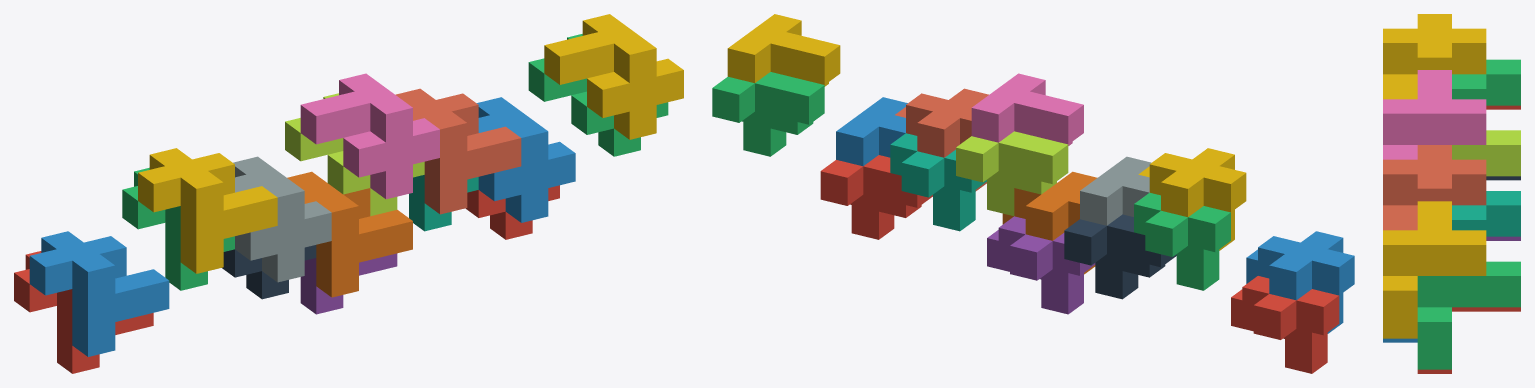
The model's file is tiling.obj.
The picture shows the model from 3 angles, left to right: view 1: azimuth 30°, elevation 25°; view 2: azimuth 150°, elevation 25°; view 3: azimuth 270°, elevation 25°; orthographic projection. The views are drawn at different scales.
Visible parts, largest first — view 1: copy_2_domain_8, copy_2_domain_4, copy_1_domain_2, copy_1_domain_4, copy_1_domain_8, copy_1_domain_6, copy_2_domain_6, copy_2_domain_2, copy_1_domain_1, copy_2_domain_7, copy_2_domain_3, copy_1_domain_3 (+4 smaller); view 2: copy_2_domain_7, copy_1_domain_1, copy_2_domain_3, copy_1_domain_3, copy_1_domain_2, copy_2_domain_8, copy_2_domain_4, copy_1_domain_4, copy_1_domain_5, copy_2_domain_5, copy_2_domain_1, copy_1_domain_7 (+4 smaller); view 3: copy_2_domain_8, copy_2_domain_4, copy_1_domain_8, copy_1_domain_4, copy_2_domain_7, copy_1_domain_3, copy_1_domain_7, copy_2_domain_3, copy_2_domain_5, copy_1_domain_1, copy_1_domain_5, copy_2_domain_1 (+1 smaller).
Boxes of the visible parts, x1,y1,x2,y2 form: copy_2_domain_8: (544, 14, 683, 139); copy_2_domain_4: (300, 73, 439, 199); copy_1_domain_2: (29, 231, 169, 356); copy_1_domain_4: (138, 148, 277, 273); copy_1_domain_8: (395, 88, 521, 214); copy_1_domain_6: (287, 171, 412, 297); copy_2_domain_6: (476, 97, 575, 222); copy_2_domain_2: (233, 156, 331, 282); copy_1_domain_1: (14, 251, 153, 373); copy_2_domain_7: (528, 34, 668, 156); copy_2_domain_3: (285, 93, 424, 216); copy_1_domain_3: (122, 167, 234, 290); copy_2_domain_7: (712, 72, 824, 156); copy_1_domain_1: (1231, 276, 1339, 373); copy_2_domain_3: (956, 131, 1068, 215); copy_1_domain_3: (1134, 192, 1230, 290); copy_1_domain_2: (1246, 231, 1354, 333); copy_2_domain_8: (727, 14, 840, 86); copy_2_domain_4: (971, 73, 1083, 145); copy_1_domain_4: (1138, 148, 1246, 250); copy_1_domain_5: (987, 216, 1095, 314); copy_2_domain_5: (820, 155, 932, 239); copy_2_domain_1: (1064, 214, 1176, 299); copy_1_domain_7: (890, 133, 986, 231); copy_2_domain_8: (1383, 201, 1486, 338); copy_2_domain_4: (1383, 70, 1486, 159); copy_1_domain_8: (1383, 145, 1486, 230); copy_1_domain_4: (1383, 14, 1486, 99); copy_2_domain_7: (1417, 261, 1520, 369); copy_1_domain_3: (1452, 59, 1520, 105); copy_1_domain_7: (1452, 191, 1520, 236); copy_2_domain_3: (1452, 130, 1520, 176); copy_2_domain_5: (1417, 307, 1520, 373); copy_1_domain_1: (1486, 105, 1520, 109); copy_1_domain_5: (1486, 236, 1520, 240); copy_2_domain_1: (1486, 176, 1520, 180).
Size of the model in its own units: 23 by 7 by 4.
